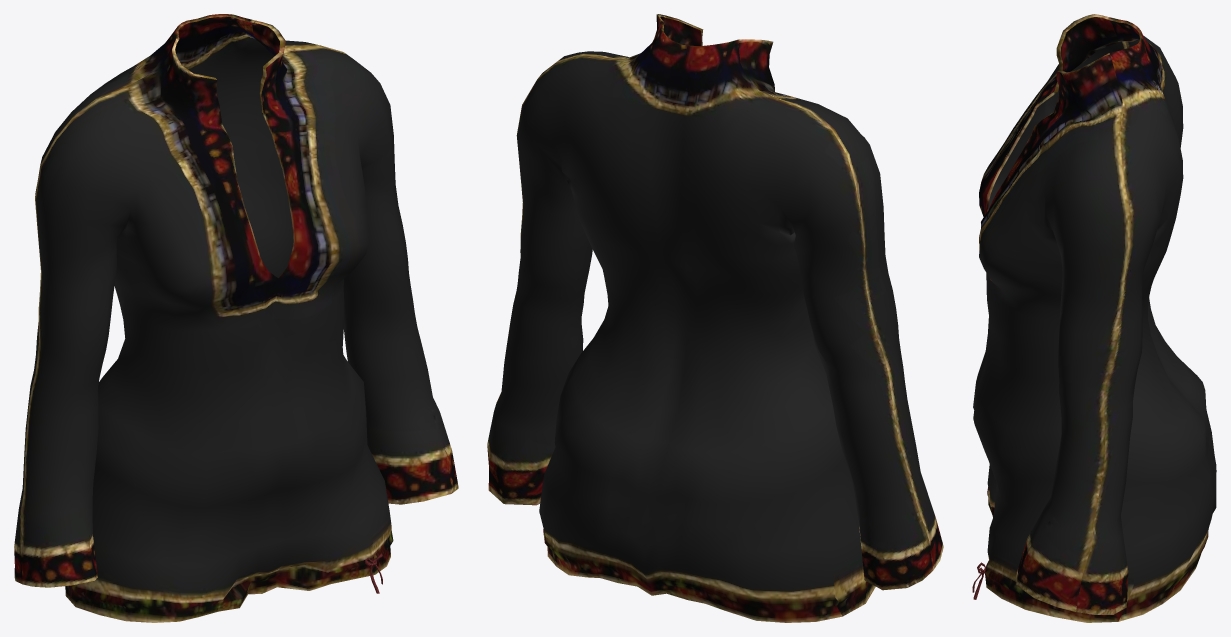
Rendered from elvs-male-boho-top1.glb.
3 views of the same model, side by side, from view 1: azimuth 30°, elevation 25°; view 2: azimuth 150°, elevation 25°; view 3: azimuth 270°, elevation 25° (orthographic). The views are drawn at different scales.
Parts seen in each view (by area): view 1: Human.elvs_male_boho_top1; view 2: Human.elvs_male_boho_top1; view 3: Human.elvs_male_boho_top1.
Part boxes in pixels (bbox=[...]): Human.elvs_male_boho_top1: bbox=[14, 14, 458, 622]; Human.elvs_male_boho_top1: bbox=[487, 14, 943, 622]; Human.elvs_male_boho_top1: bbox=[972, 14, 1216, 622].
Bounding box in the file's own units: 0.5461 × 0.6605 × 0.2808.
1 material, 1 textured.
